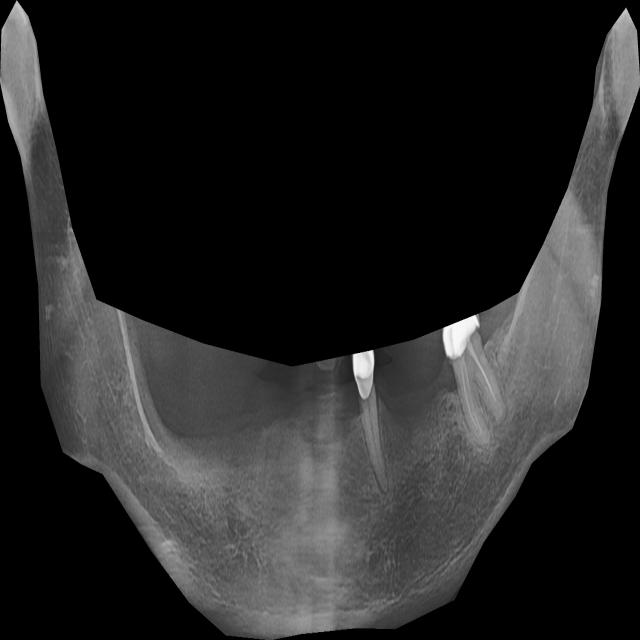mandibula: (0, 0, 640, 640)
